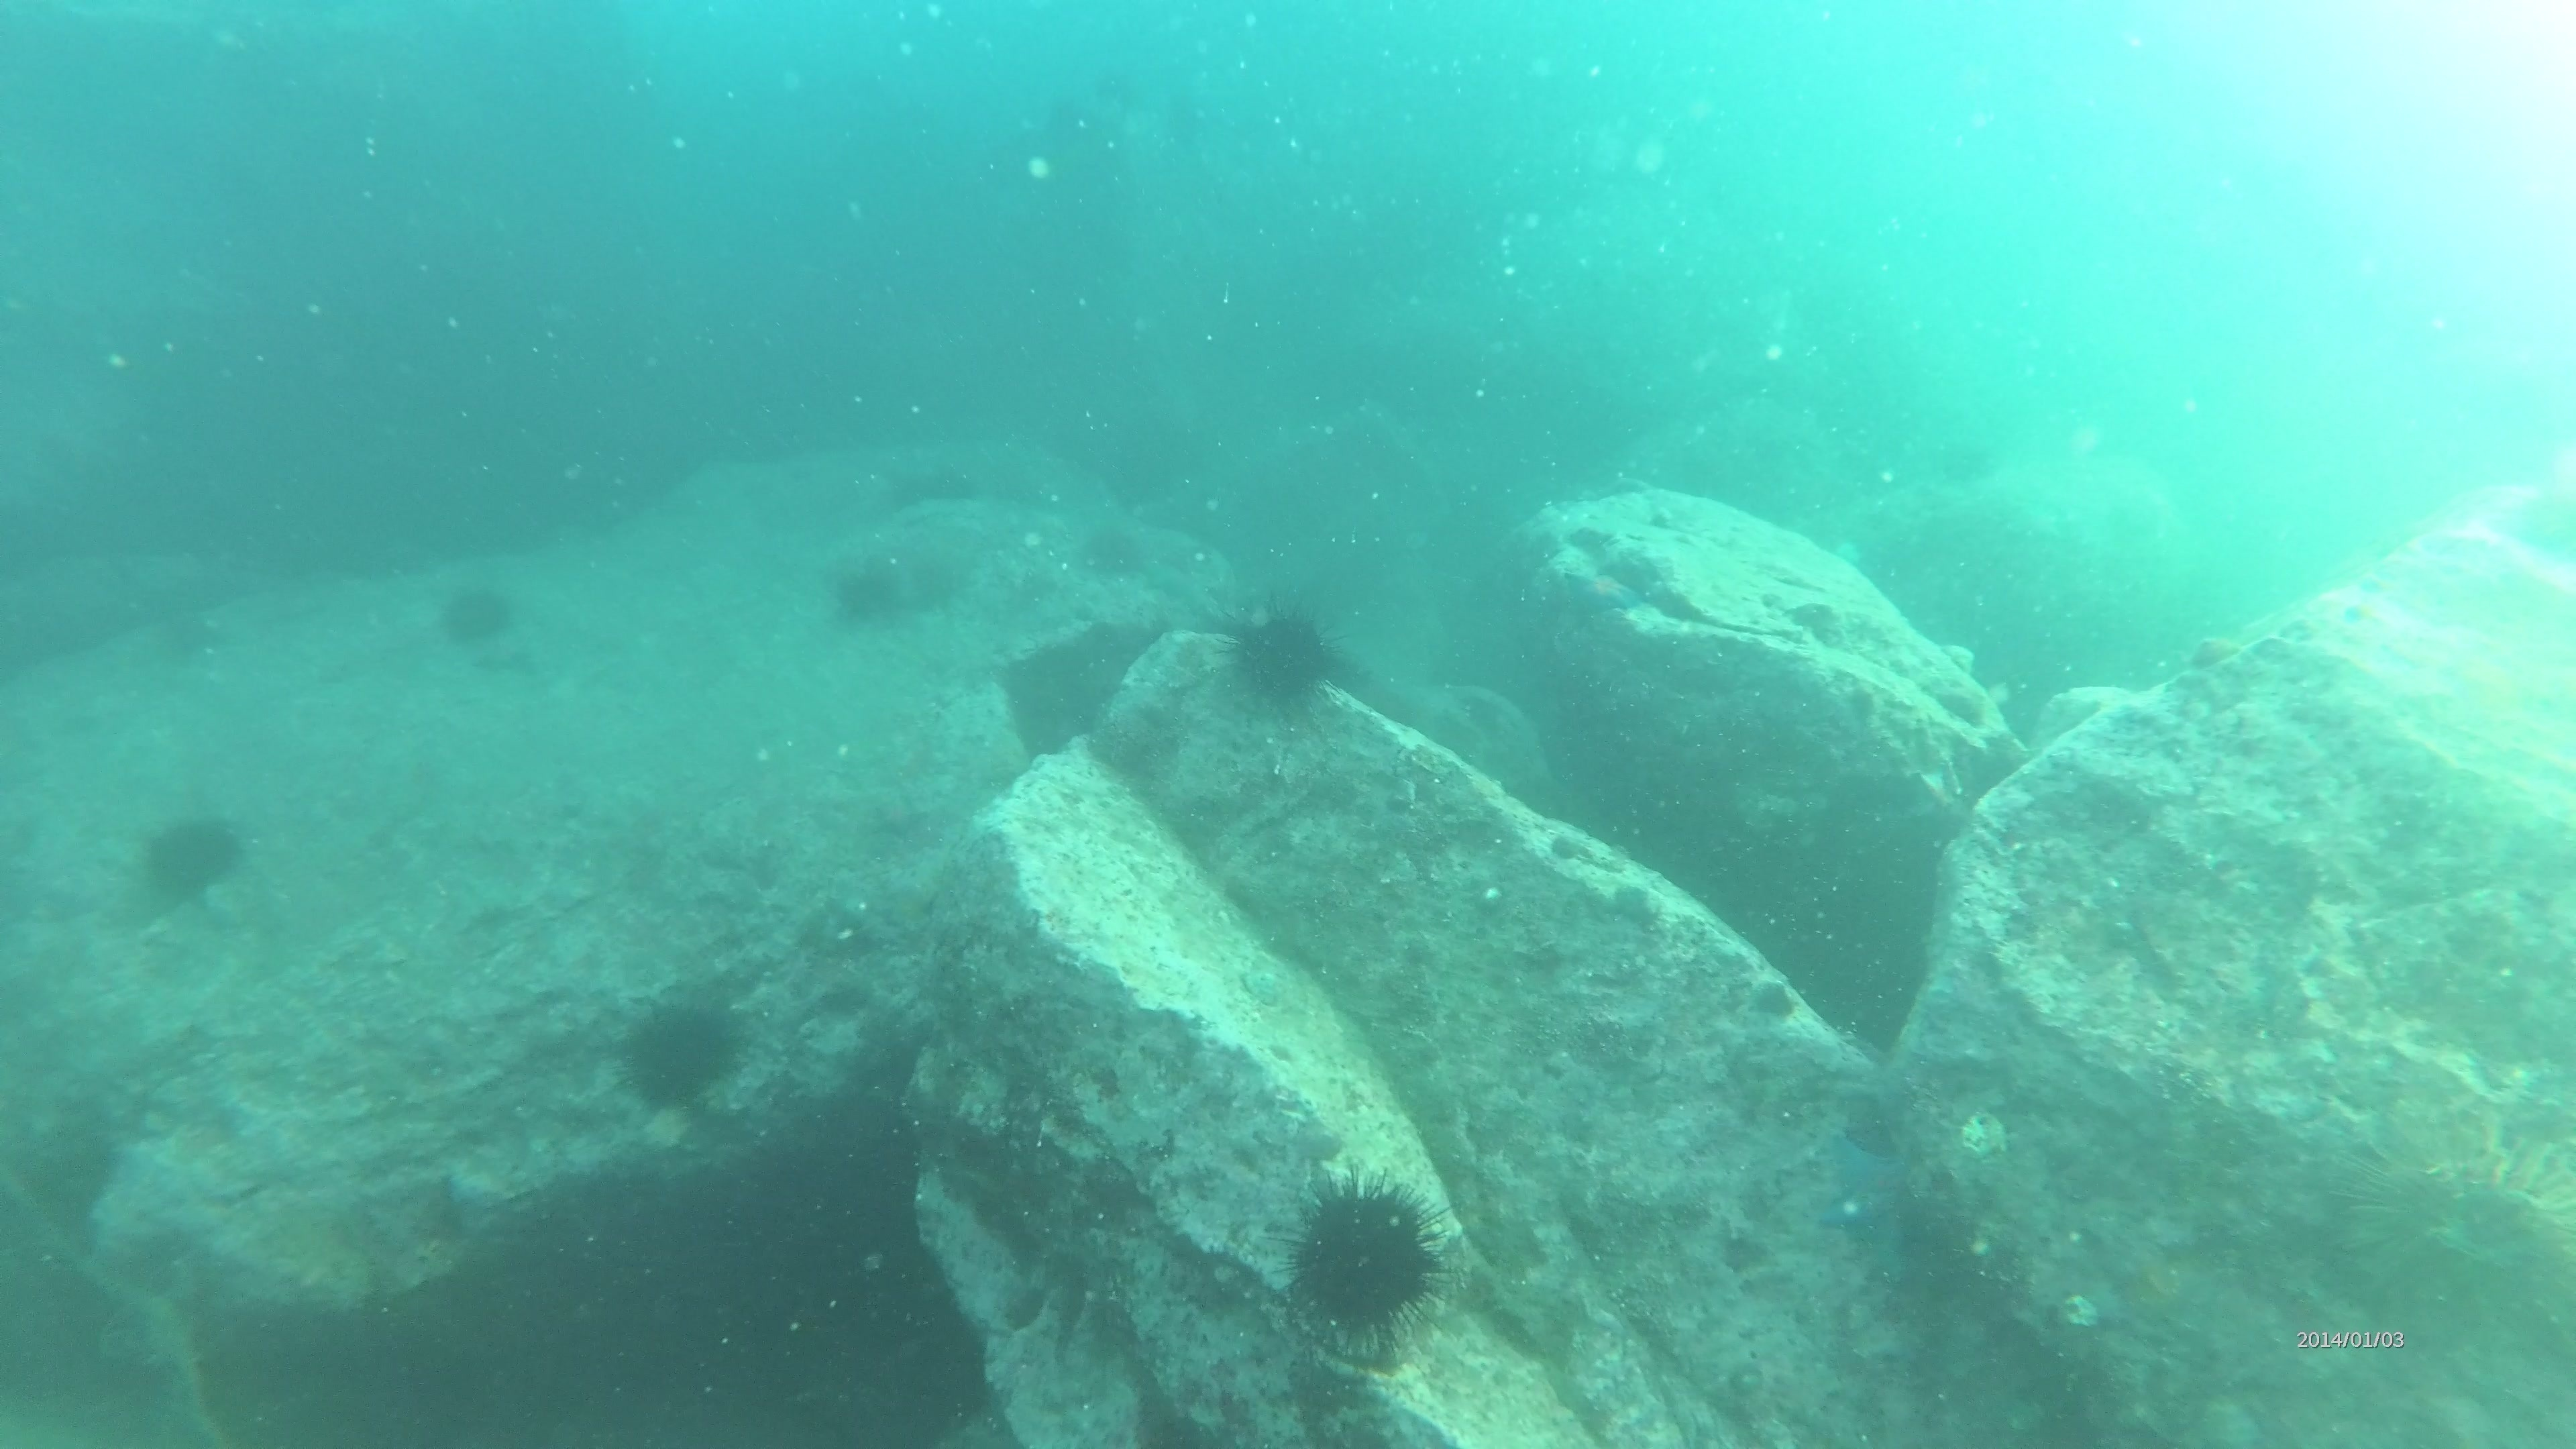echinus: (2327, 1118, 2567, 1345), (1279, 1166, 1453, 1346), (610, 985, 752, 1116), (1215, 594, 1350, 722), (131, 803, 251, 911), (830, 541, 968, 626), (430, 573, 524, 655), (823, 550, 911, 633), (1070, 513, 1152, 589)
